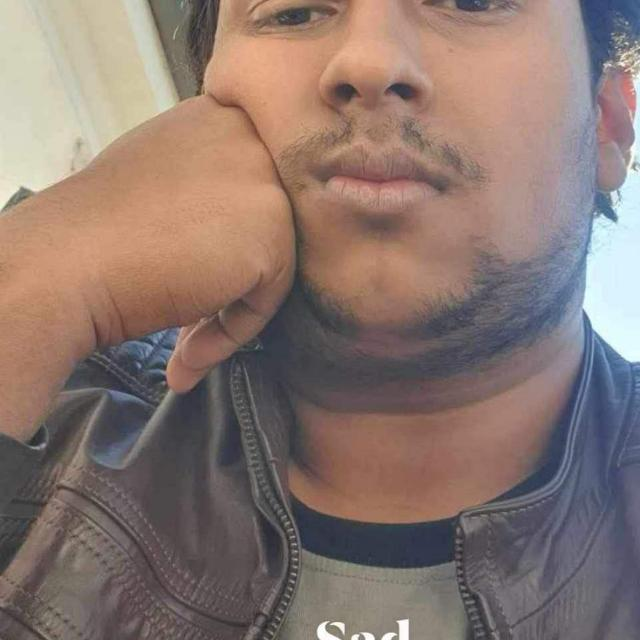Natural: (157, 0, 639, 434)
